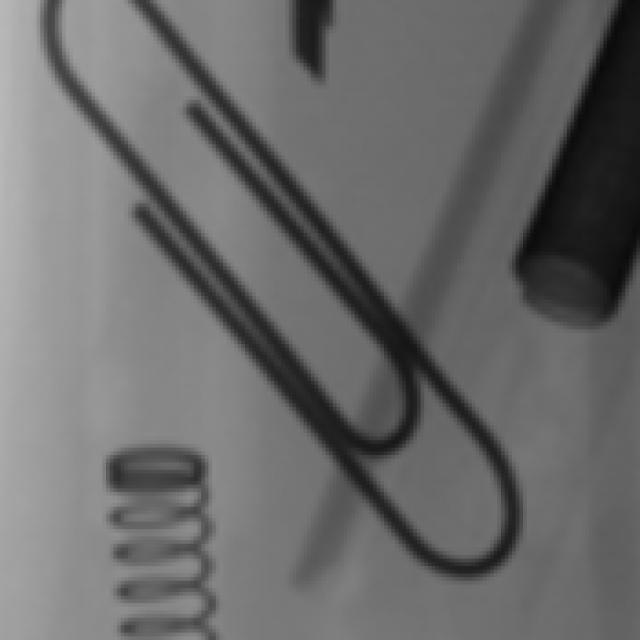BLADE: (287, 1, 344, 118)
